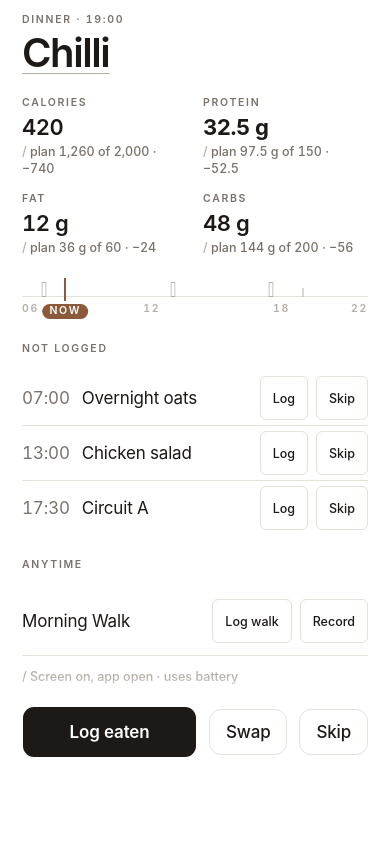
logging the active item › marking the last item done shows the day as complete
Step 1. Click the button "Log eaten" → (110, 732), box [22,706,197,758]
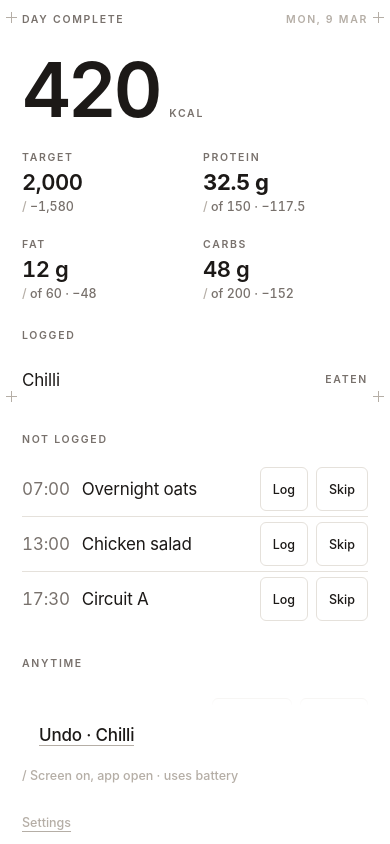
Now the heading "Day complete" is shown, box [22,12,124,28]
